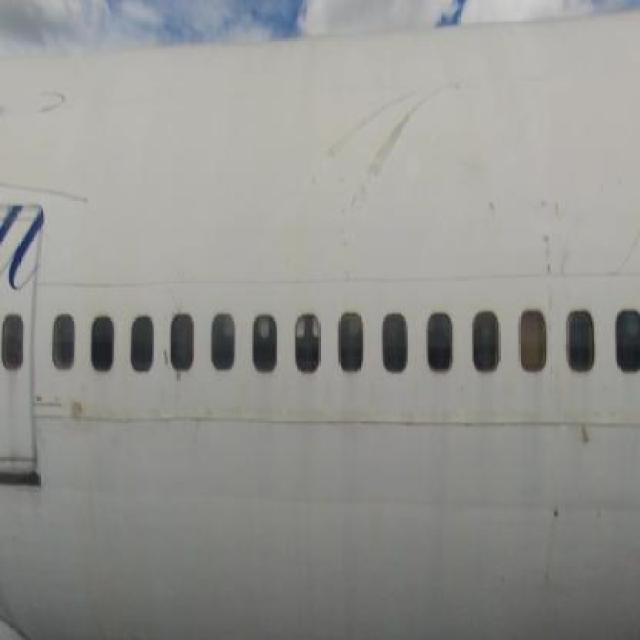Scartch: (296, 88, 456, 229), (532, 182, 576, 318), (569, 402, 605, 462)
